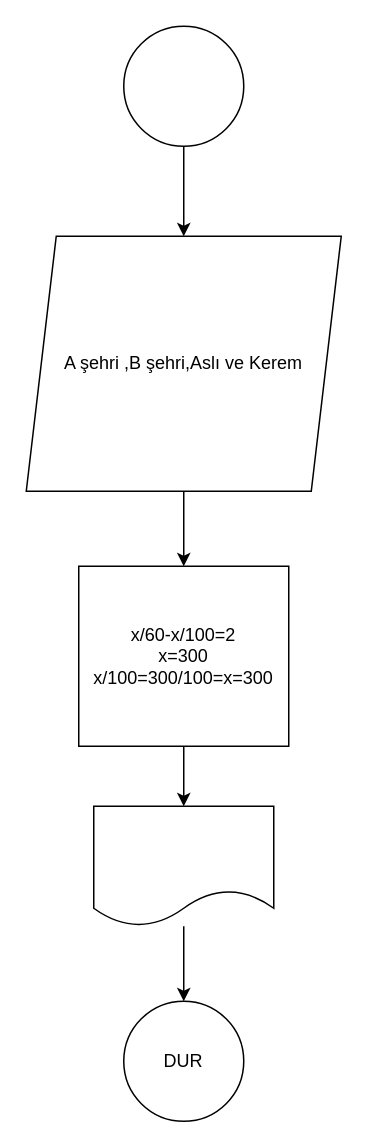
The diagram is 368 pixels wide and 1148 high, and some of its shapes have lost their labels. Here are the shapes that lost their labels. From the top down, the centre of each, then its label:
pixel 183 85: BAŞLA
pixel 183 865: v=300/4=75 km/s
